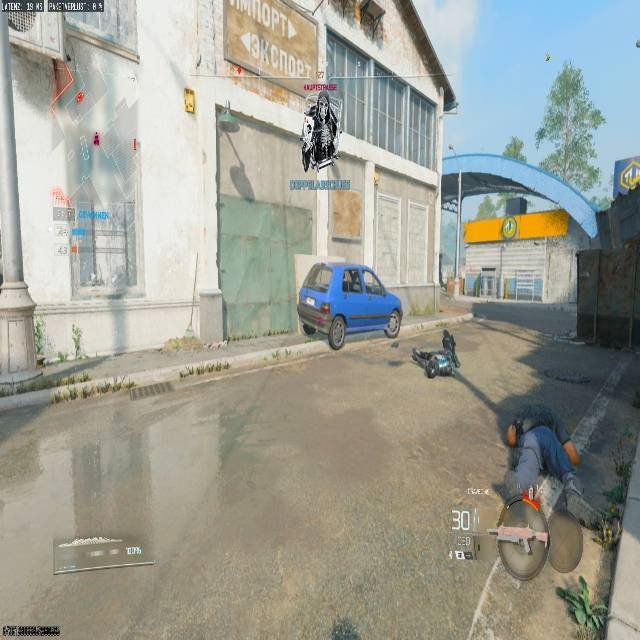player: (300, 94, 339, 171)
